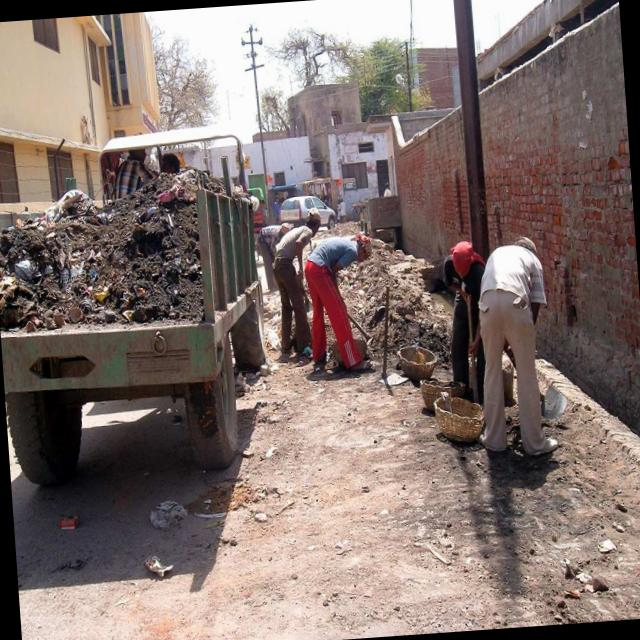garbage: (0, 155, 235, 334)
